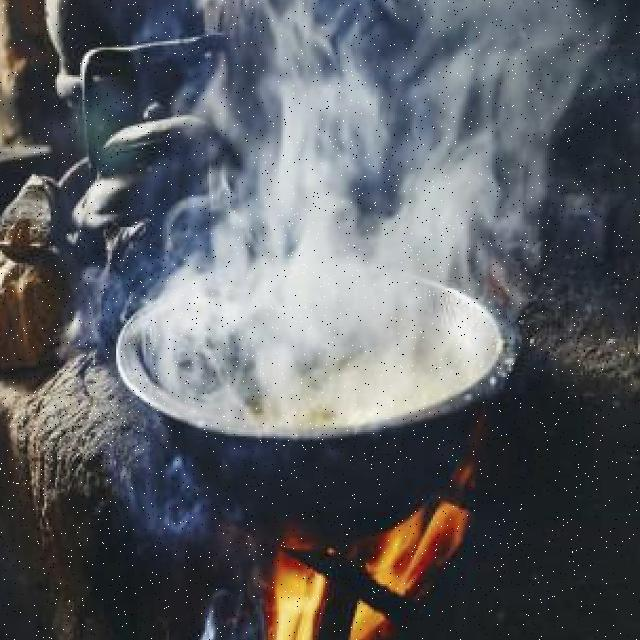fire: (268, 542, 402, 640)
smoke: (125, 0, 549, 426)
